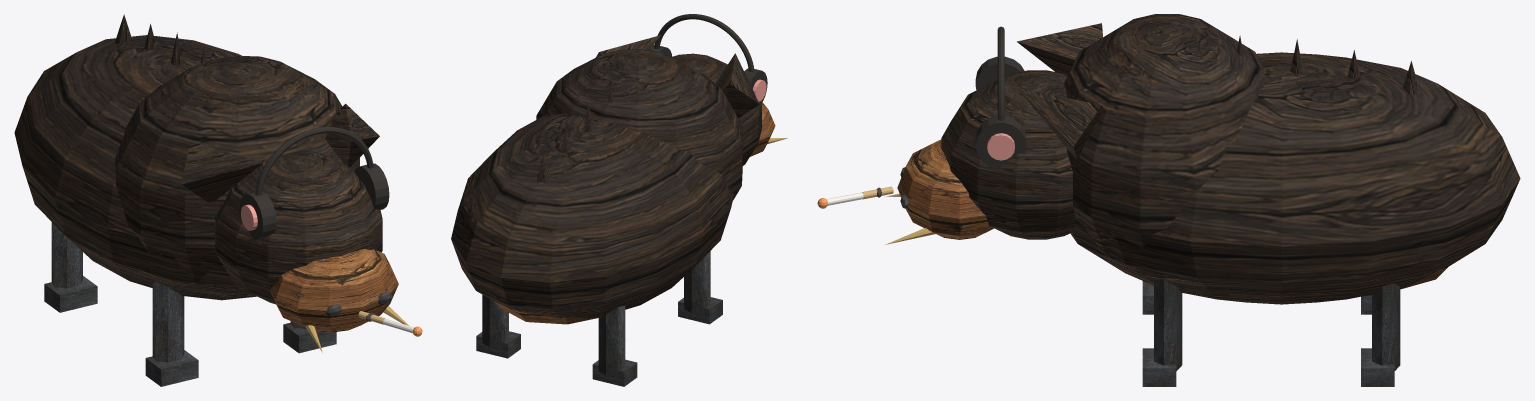
The model's file is wild-hog.glb.
3 renders of one model, left to right at view 1: azimuth 30°, elevation 25°; view 2: azimuth 150°, elevation 25°; view 3: azimuth 270°, elevation 25°, orthographic. The views are drawn at different scales.
Visible parts, largest first — view 1: wild-hog_merged_mesh, mferland_accessory_wild-hog_headphone_top_band, mferland_accessory_wild-hog_headphone_left_cup, mferland_accessory_wild-hog_headphone_right_cup, mferland_accessory_wild-hog_headphone_left_accent; view 2: wild-hog_merged_mesh, mferland_accessory_wild-hog_headphone_top_band, mferland_accessory_wild-hog_headphone_left_cup; view 3: wild-hog_merged_mesh, mferland_accessory_wild-hog_headphone_right_cup, mferland_accessory_wild-hog_headphone_left_cup, mferland_accessory_wild-hog_headphone_top_band, mferland_accessory_wild-hog_headphone_right_accent.
Part boxes in pixels (x1=…): wild-hog_merged_mesh: x1=14, y1=14, x2=408, y2=386; mferland_accessory_wild-hog_headphone_top_band: x1=255, y1=127, x2=373, y2=195; mferland_accessory_wild-hog_headphone_left_cup: x1=239, y1=191, x2=276, y2=239; mferland_accessory_wild-hog_headphone_right_cup: x1=354, y1=163, x2=389, y2=210; mferland_accessory_wild-hog_headphone_left_accent: x1=241, y1=204, x2=257, y2=230; wild-hog_merged_mesh: x1=451, y1=35, x2=787, y2=386; mferland_accessory_wild-hog_headphone_top_band: x1=654, y1=14, x2=754, y2=71; mferland_accessory_wild-hog_headphone_left_cup: x1=744, y1=68, x2=767, y2=106; wild-hog_merged_mesh: x1=884, y1=14, x2=1520, y2=386; mferland_accessory_wild-hog_headphone_right_cup: x1=975, y1=116, x2=1026, y2=168; mferland_accessory_wild-hog_headphone_left_cup: x1=975, y1=56, x2=1024, y2=90; mferland_accessory_wild-hog_headphone_top_band: x1=997, y1=26, x2=1004, y2=120; mferland_accessory_wild-hog_headphone_right_accent: x1=987, y1=133, x2=1014, y2=160.
Size of the model in its own units: 1.24 by 1.33 by 2.71.
Materials: 12 (6 with a texture image).
